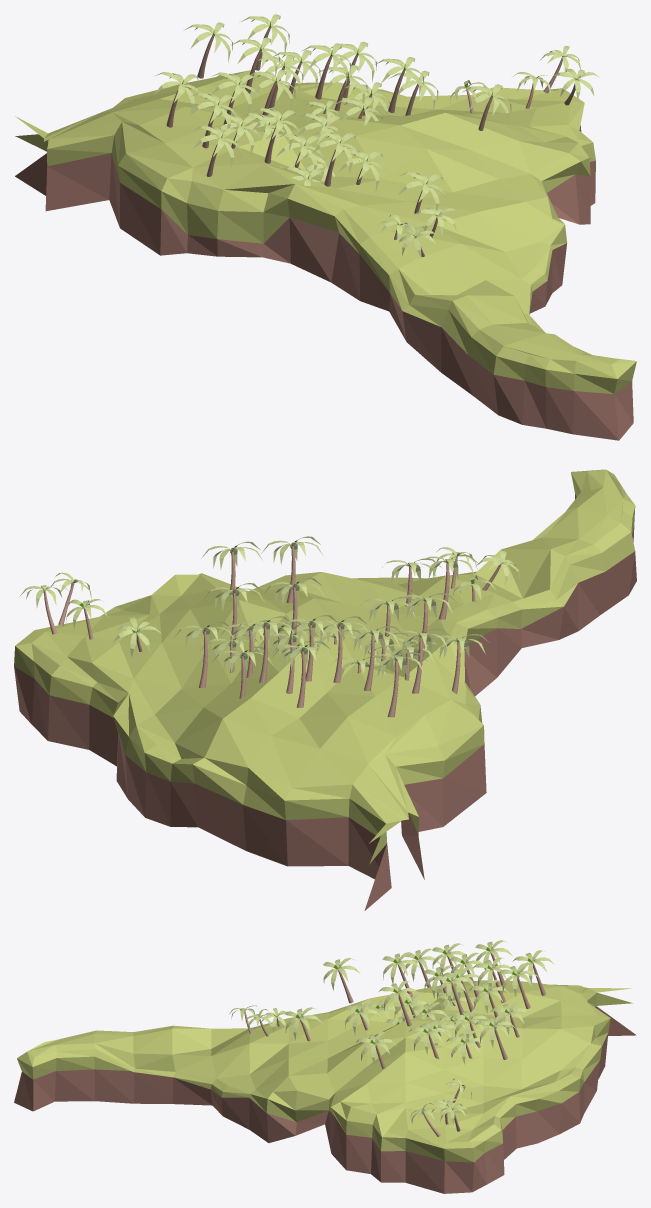
The model's file is southAmerica.glb.
3 views of the same model, one above another, from view 1: azimuth 30°, elevation 25°; view 2: azimuth 150°, elevation 25°; view 3: azimuth 270°, elevation 25° (orthographic). The views are drawn at different scales.
Visible parts, largest first — view 1: southAmerica; view 2: southAmerica; view 3: southAmerica.
Boxes of the visible parts, x1,y1,x2,y2 form: southAmerica: (15, 14, 636, 440); southAmerica: (14, 469, 636, 910); southAmerica: (14, 940, 636, 1193).
Bounding box in the file's own units: 2.78 × 1.05 × 4.46.
Materials: 5 (1 with a texture image).
